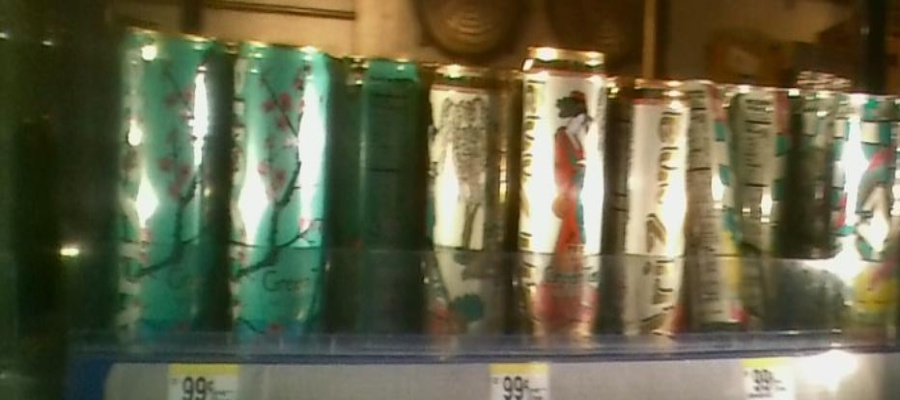bottle: (104, 13, 226, 357), (228, 21, 332, 362), (516, 26, 607, 367), (338, 32, 424, 358), (426, 42, 511, 363), (614, 54, 691, 368), (830, 80, 900, 347), (690, 64, 745, 345), (745, 51, 791, 326)
